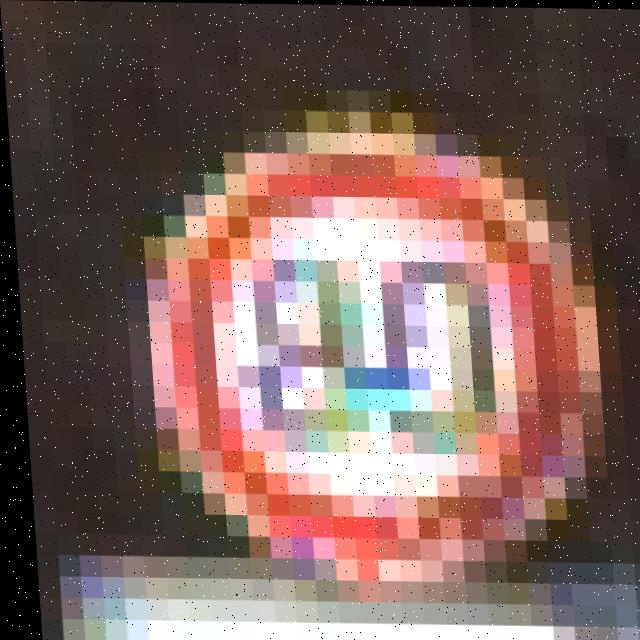speed_limit_80: (120, 116, 617, 604)
